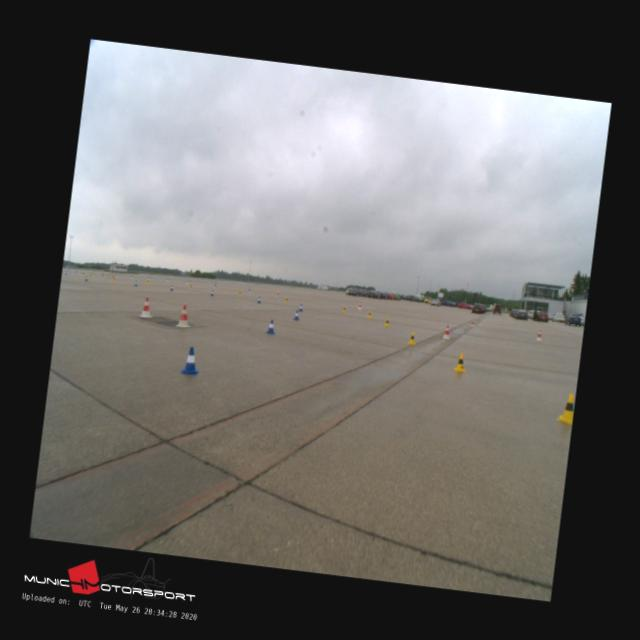blue_cone: (180, 346, 200, 374), (266, 320, 276, 334), (293, 310, 300, 320), (298, 302, 304, 312), (256, 296, 262, 302), (210, 290, 214, 296)
yellow_cone: (557, 392, 575, 423), (454, 352, 466, 372), (408, 332, 416, 344), (384, 316, 390, 326), (367, 310, 371, 318), (342, 306, 346, 312), (284, 296, 288, 302)
